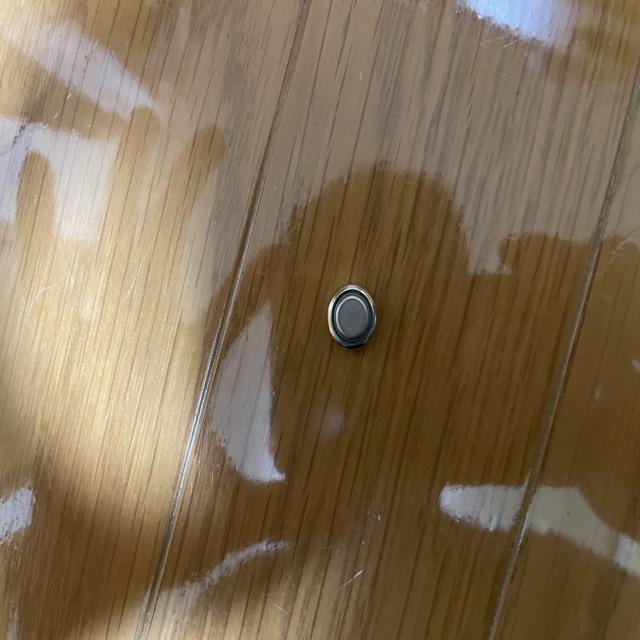COIN: (326, 284, 378, 349)
